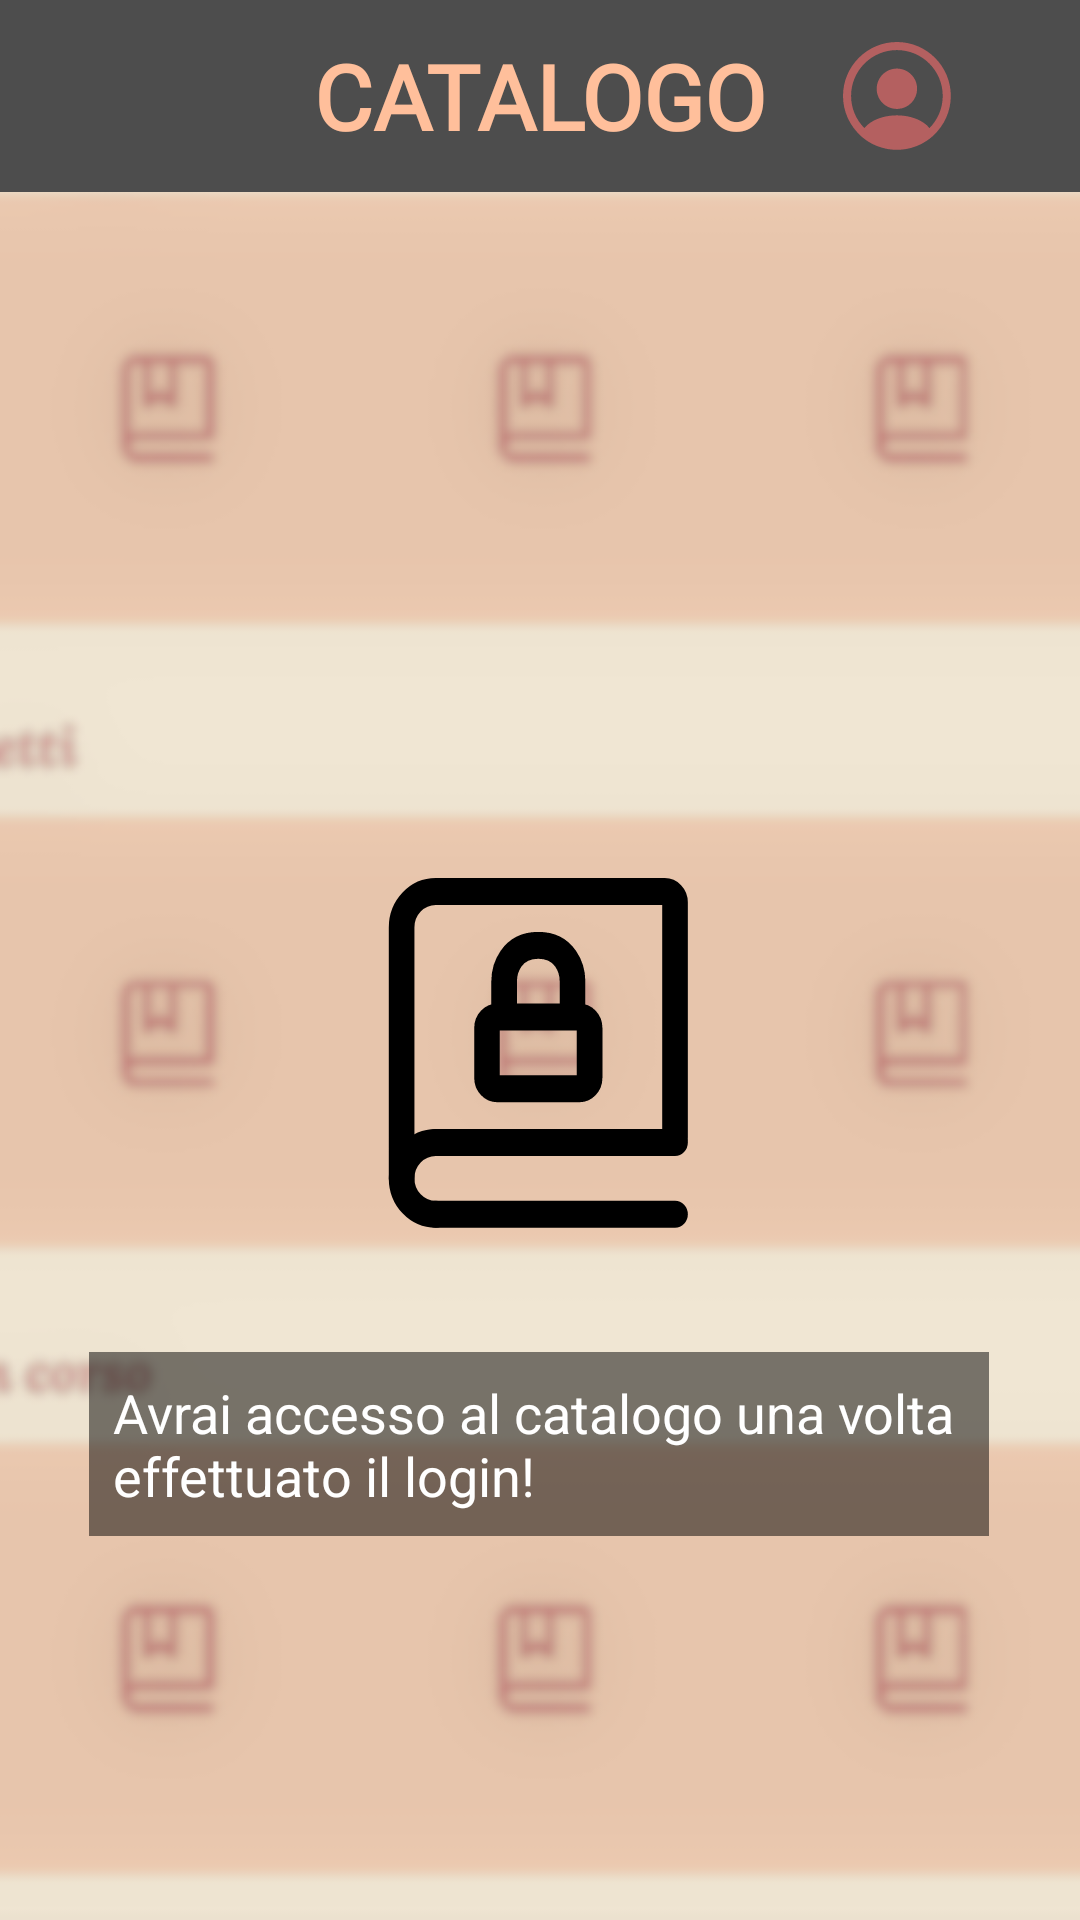

Icons on this 1080px×1920px Android screen, each with the point to tap as [x,y]:
block book: [538,1053]
profile circle: [897,96]
